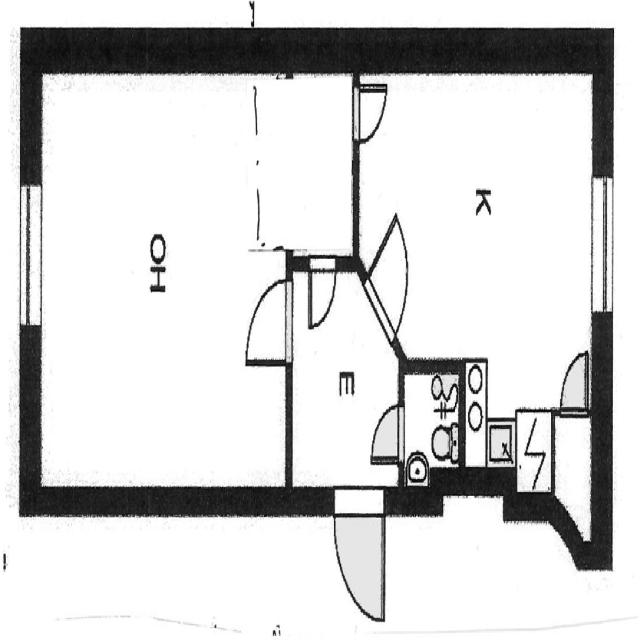door: (333, 505, 385, 625), (244, 274, 289, 364), (306, 253, 339, 336), (367, 396, 405, 466), (557, 345, 591, 415), (355, 79, 388, 145)
window: (586, 167, 618, 329), (18, 175, 47, 338)
zone: (39, 59, 288, 498), (357, 71, 600, 503), (289, 266, 385, 494), (289, 70, 356, 253), (400, 362, 462, 484)
